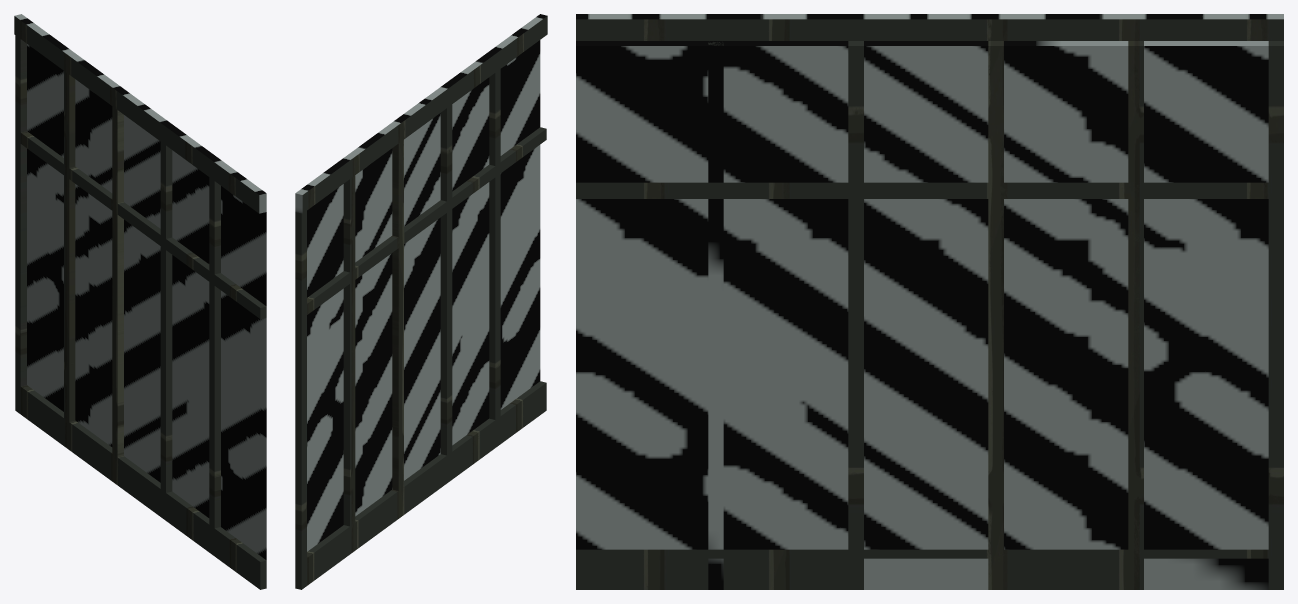
The model's file is SM_Window.glb.
3 views of the same model, side by side, from view 1: azimuth 30°, elevation 25°; view 2: azimuth 150°, elevation 25°; view 3: azimuth 270°, elevation 25° (orthographic). The views are drawn at different scales.
Parts seen in each view (by area): view 1: Cube.001; view 2: Cube.001; view 3: Cube.001.
Part boxes in pixels (x1,y1,x2,y2): Cube.001: [14, 14, 266, 589]; Cube.001: [295, 14, 547, 589]; Cube.001: [576, 14, 1283, 589].
Size of the model in its own units: 0.0176 by 0.9028 by 1.01.
2 materials, 2 textured.
